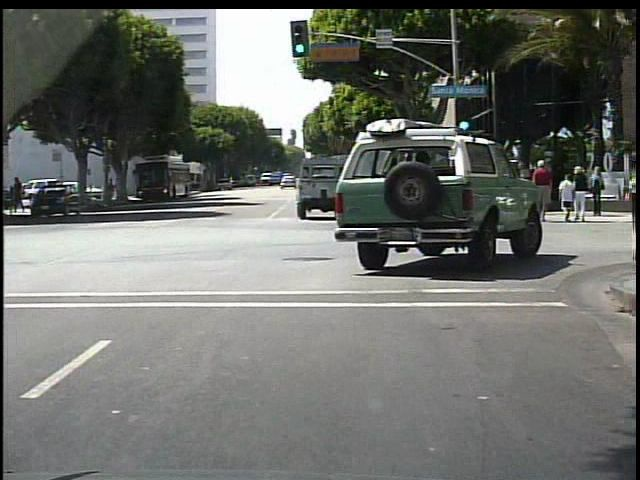person: (530, 161, 553, 225), (574, 166, 591, 224), (588, 166, 606, 218), (557, 173, 576, 222), (471, 169, 488, 216), (512, 162, 527, 215), (500, 168, 515, 215), (503, 165, 516, 212), (461, 166, 472, 216), (116, 177, 125, 205), (104, 178, 114, 201)
